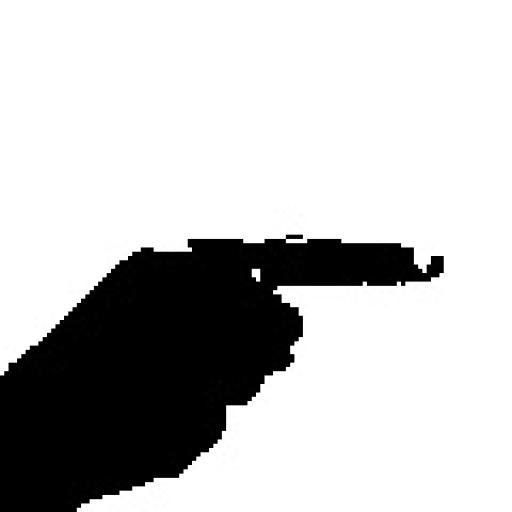index_right: (0, 233, 445, 423)
